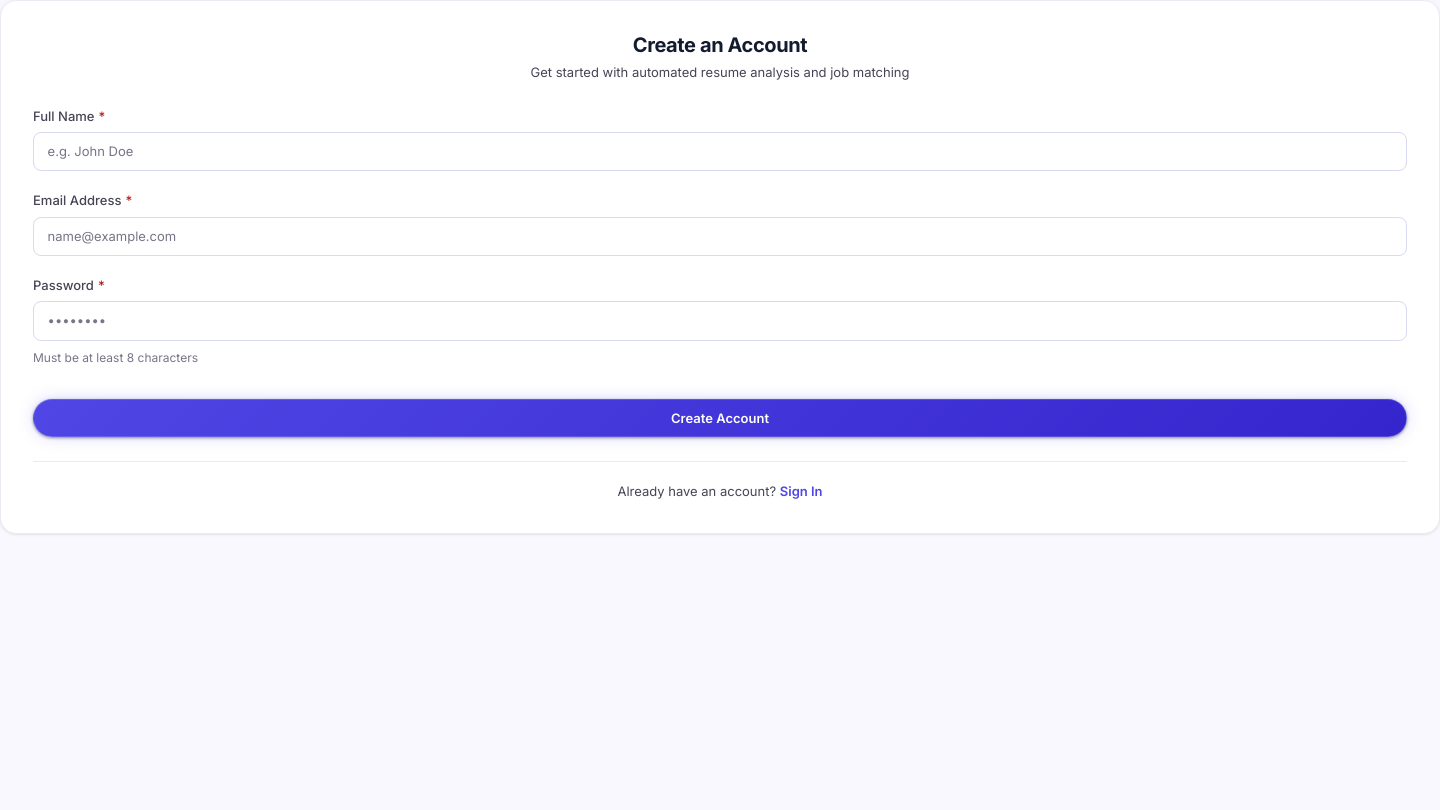
it: Authentication & Route Protection Suite › 4. Register form validation: enforces schema constraints on name, email, and password
Expected: the field labelled "Full Name*" is shown, [33, 132, 1407, 171]
Expected: the field labelled "Email Address*" is shown, [33, 217, 1407, 256]
// Submit empty
Step 1. Click the button with test id "register-submit-btn" → (720, 418), box [33, 399, 1407, 437]
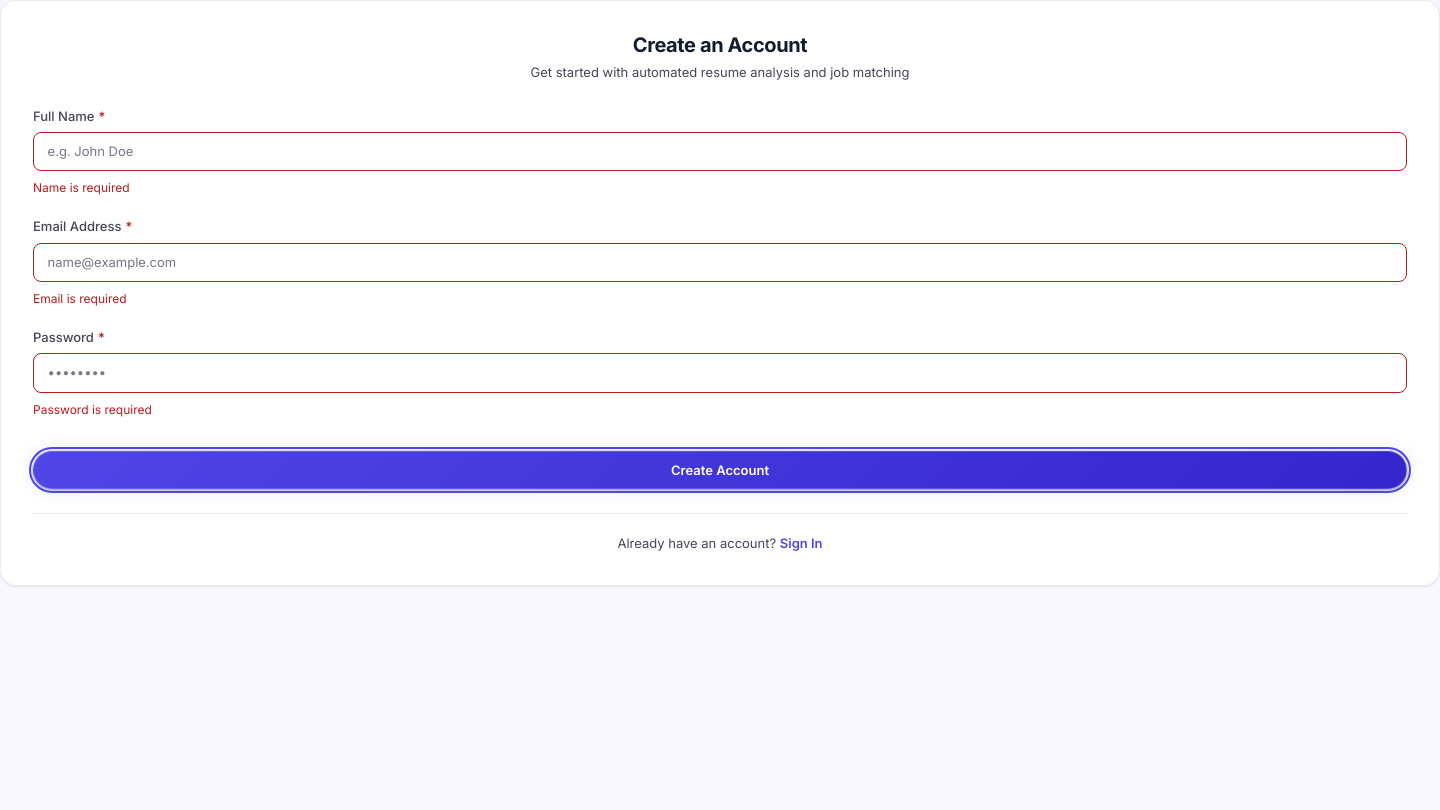
Result: the text "Name is required" is shown at [33, 180, 130, 195]
Result: the text "Email is required" is shown at [33, 291, 127, 306]
Result: the text "Password is required" is shown at [33, 402, 152, 417]
Step 2. Type "A" into the field labelled "Full Name*" → (720, 152), box [33, 132, 1407, 171]
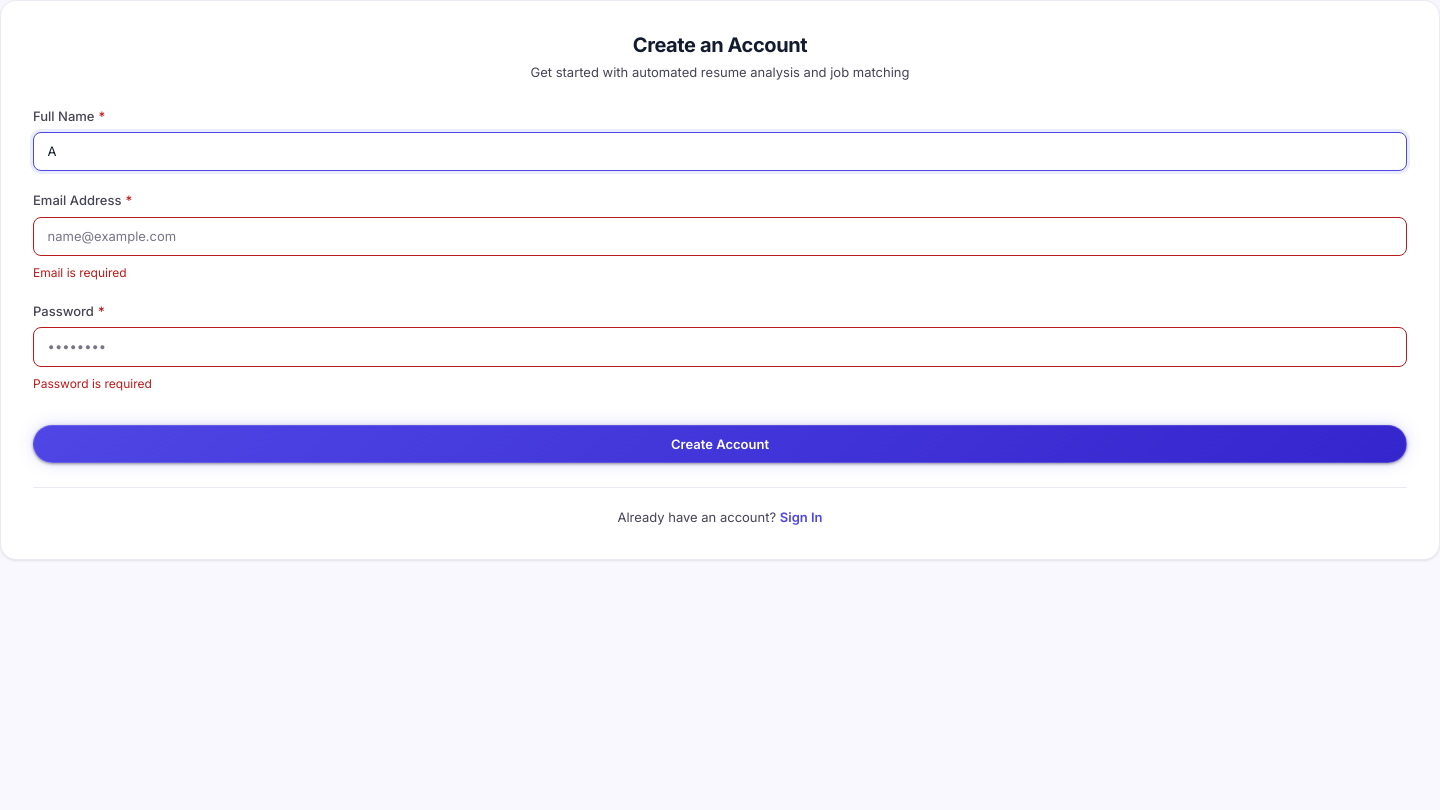
Step 3. Type "bad-email" into the field labelled "Email Address*" → (720, 236), box [33, 217, 1407, 256]
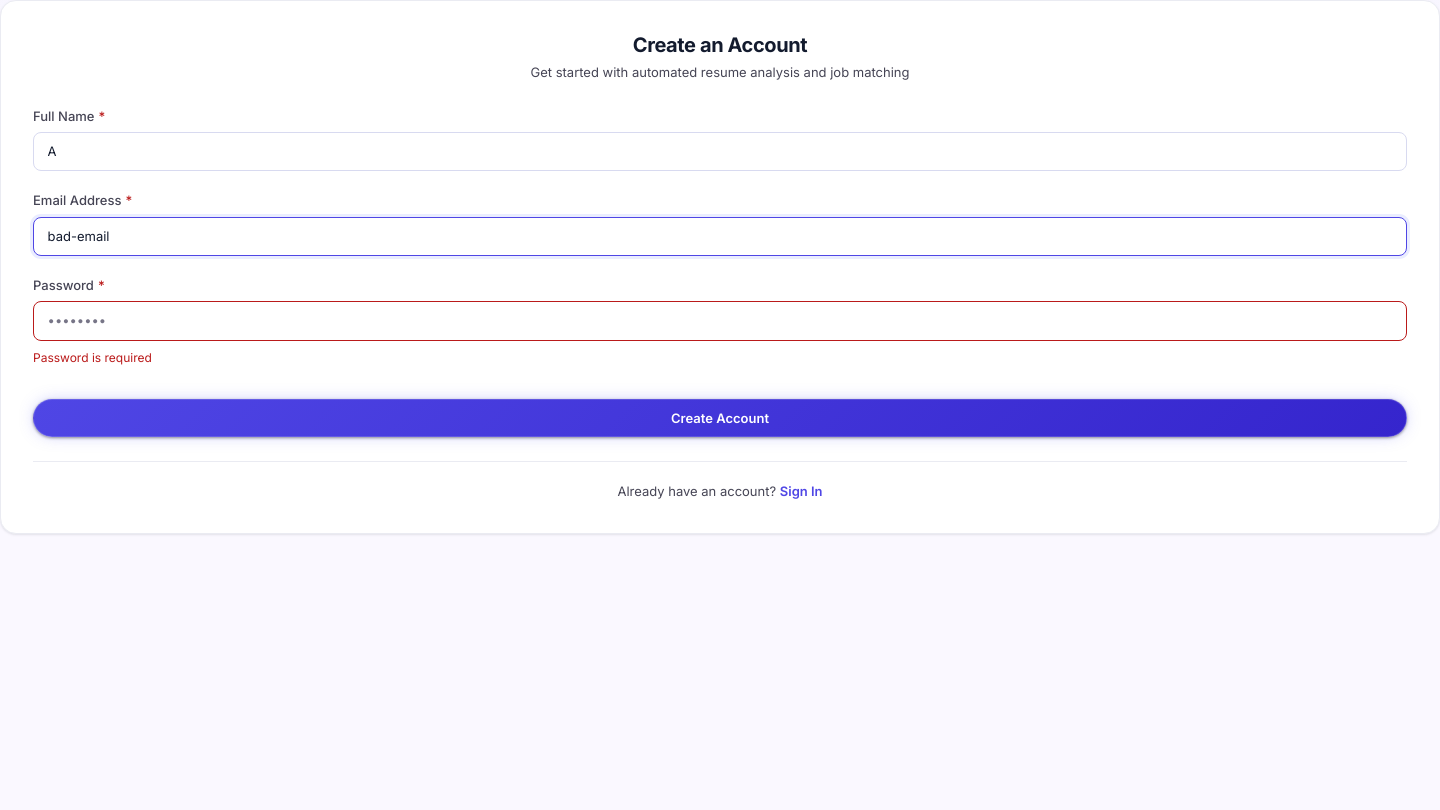
Step 4. Type "short" into the password field labelled "Password*" → (720, 321), box [33, 302, 1407, 341]
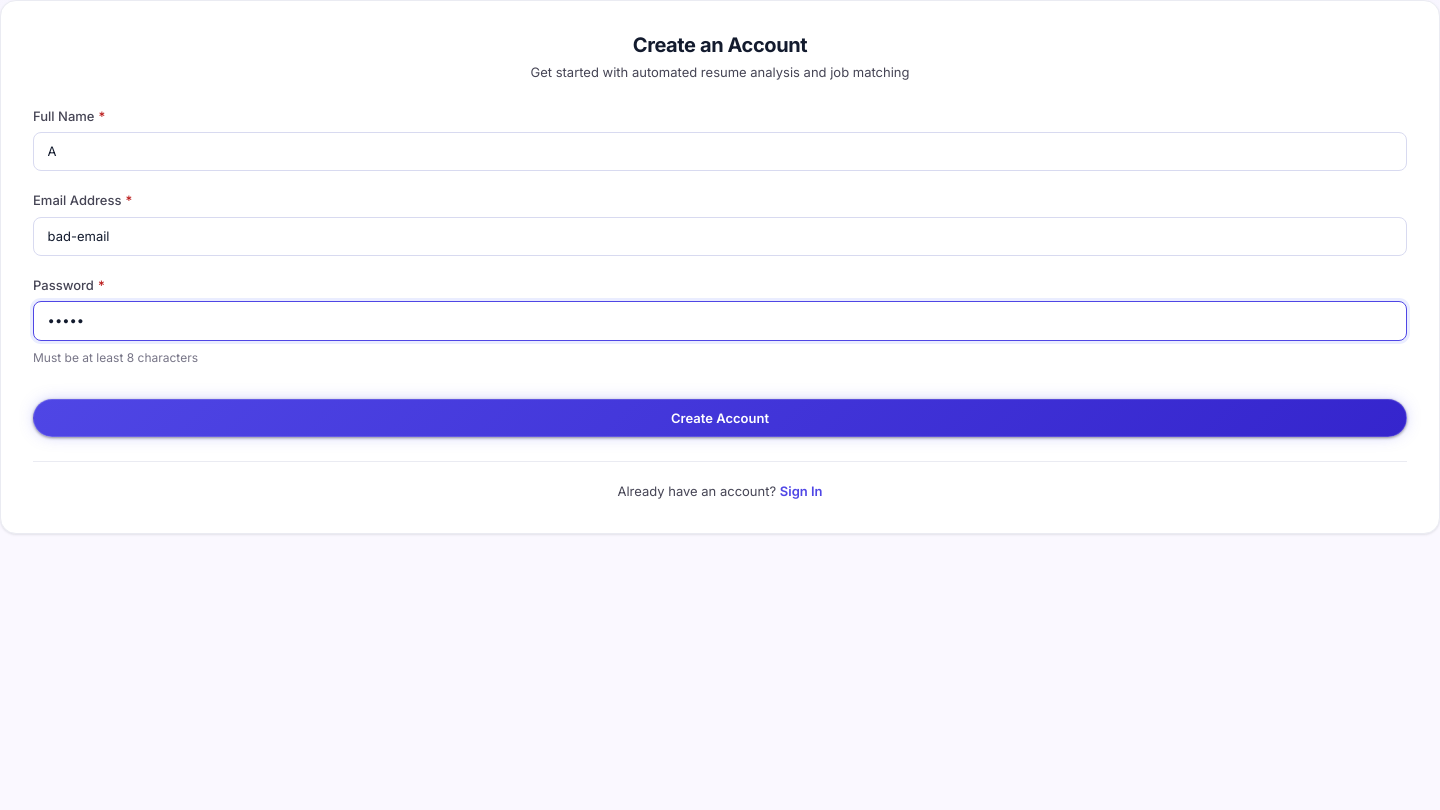
Step 5. Click the button with test id "register-submit-btn" → (720, 418), box [33, 399, 1407, 437]
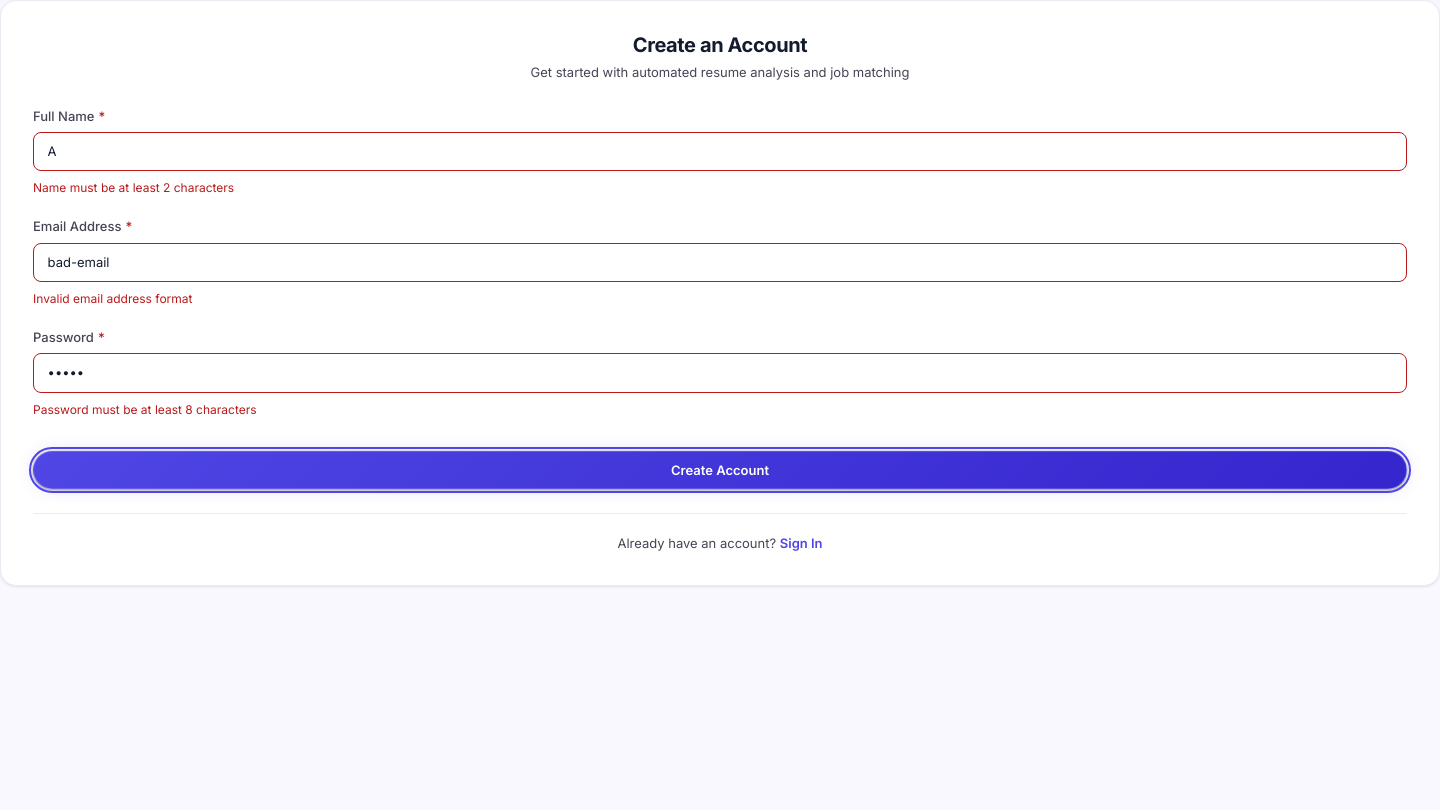
Result: the text "Name must be at least 2 characters" is shown at [33, 180, 234, 195]
Result: the text "Invalid email address format" is shown at [33, 291, 192, 306]
Result: the text "Password must be at least 8 characters" is shown at [33, 402, 257, 417]
